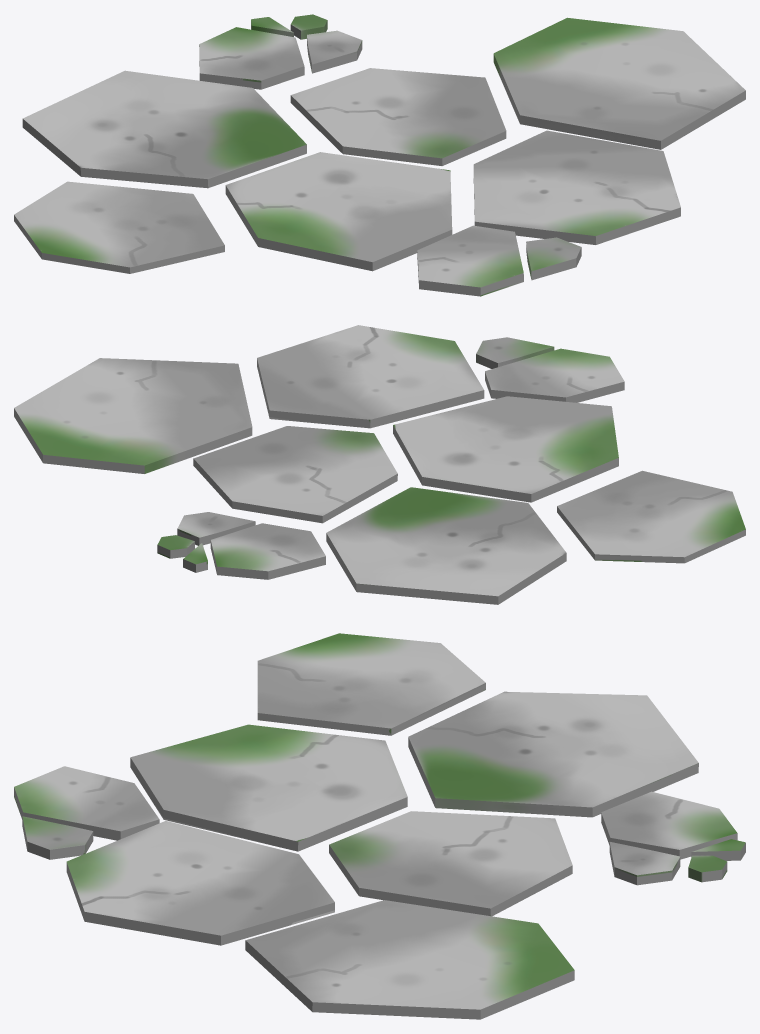
File: Petite dalle1.fbx
The picture shows the model from 3 angles, top to bottom: view 1: azimuth 30°, elevation 25°; view 2: azimuth 150°, elevation 25°; view 3: azimuth 270°, elevation 25°; orthographic projection. The views are drawn at different scales.
Parts seen in each view (by area): view 1: Cercle.001; view 2: Cercle.001; view 3: Cercle.001.
Boxes of the visible parts, x1,y1,x2,y2 form: Cercle.001: (14, 14, 745, 296); Cercle.001: (14, 325, 745, 604); Cercle.001: (14, 633, 745, 1019).
Size of the model in its own units: 543 by 7.75 by 443.
